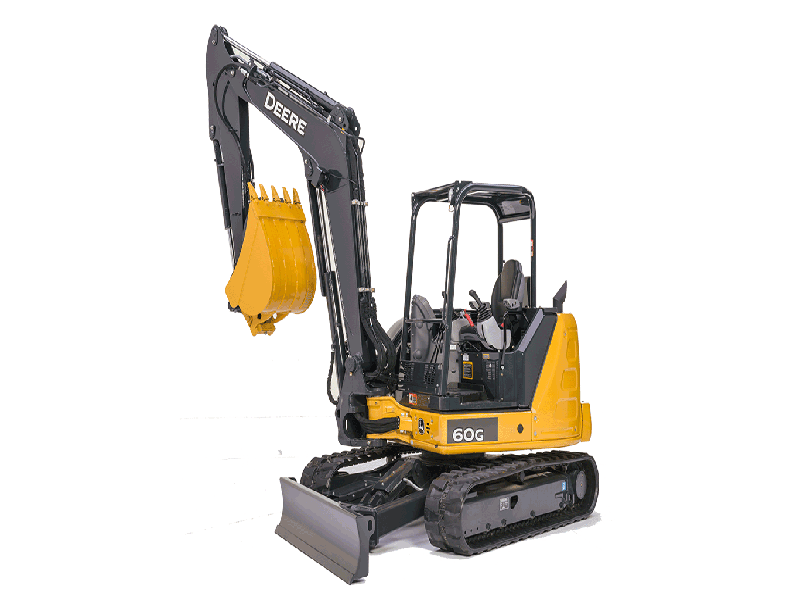shovel: (194, 16, 612, 594)
